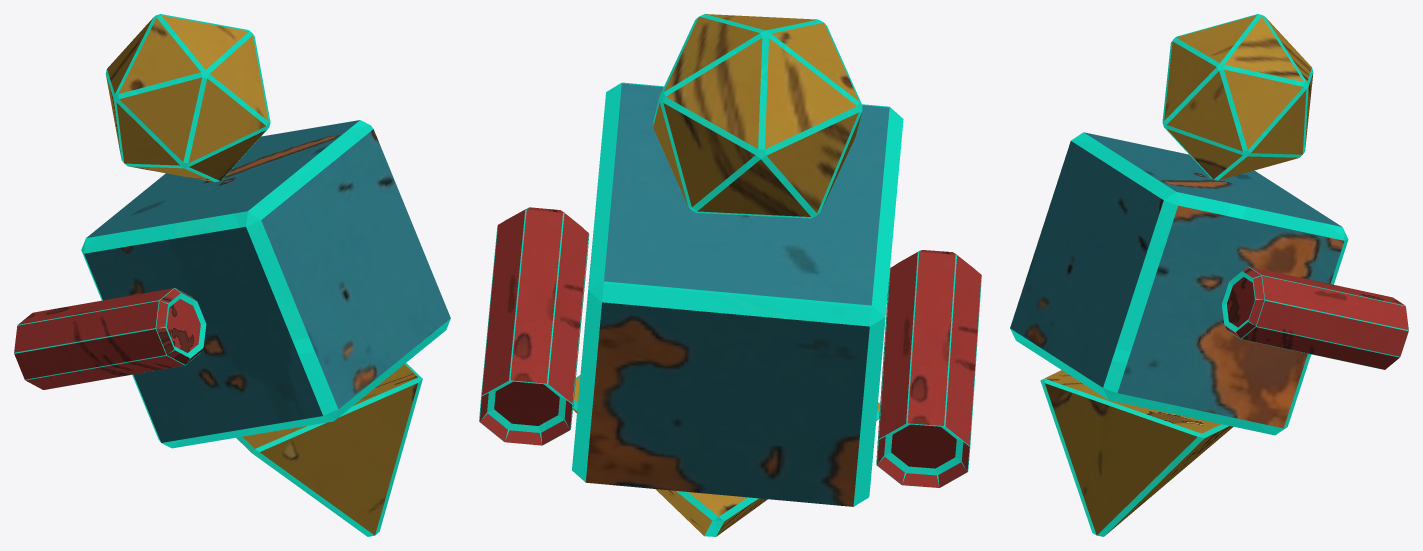
The model's file is DBCROBOTLEVITANDO_20260429.glb.
3 views of the same model, side by side, from view 1: azimuth 30°, elevation 25°; view 2: azimuth 150°, elevation 25°; view 3: azimuth 270°, elevation 25° (orthographic). The views are drawn at different scales.
Visible parts, largest first — view 1: RobotB.001; view 2: RobotB.001; view 3: RobotB.001.
Part boxes in pixels (left/top/right/bottom): RobotB.001: left=14, top=14, right=450, bottom=536; RobotB.001: left=479, top=14, right=981, bottom=536; RobotB.001: left=1010, top=14, right=1408, bottom=536.
Size of the model in its own units: 2.89 by 3.69 by 2.88.
Materials: 2 (2 with a texture image).
